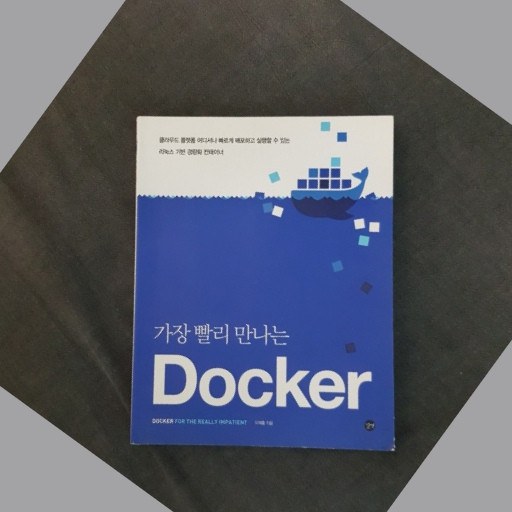Paper_0: (124, 106, 410, 462)
